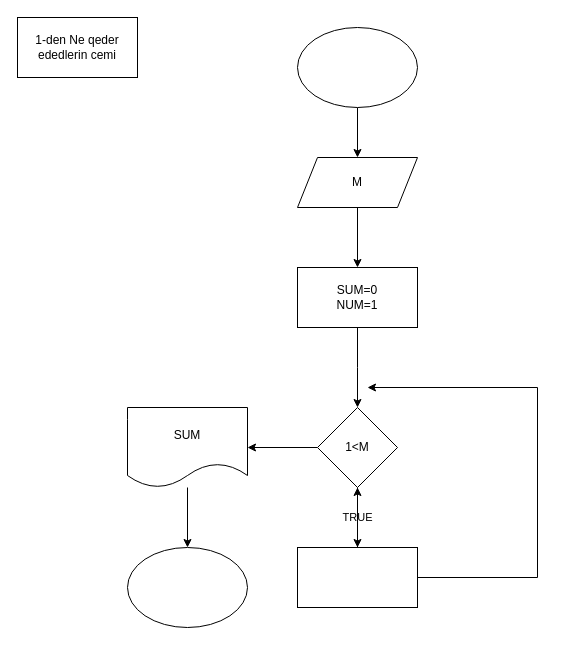
Some shapes in this 563 by 645 pixel diagram are drawn without their labels. The box of each missing label's shape, as (x1, y1, x2, y2) in pixels:
END: (126, 546, 248, 628)
START: (296, 26, 418, 108)
SUM+=1 1++: (296, 546, 418, 608)
